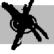not correct: (0, 0, 49, 51)
